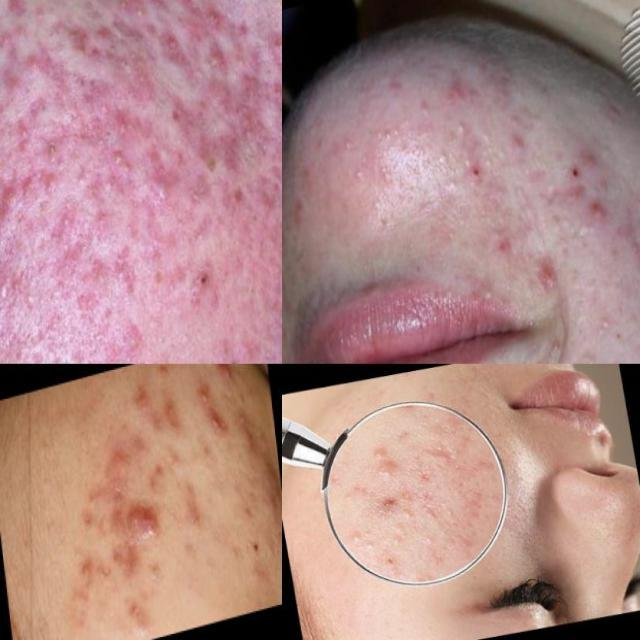Pimples: (116, 50, 257, 206), (523, 240, 575, 300), (433, 52, 478, 120), (582, 186, 624, 248), (230, 84, 265, 156), (0, 174, 28, 252), (128, 493, 164, 552), (101, 138, 140, 188), (550, 174, 595, 216), (144, 162, 177, 216), (204, 398, 230, 451), (572, 144, 604, 182), (421, 430, 453, 462), (158, 392, 184, 430), (130, 382, 156, 418), (298, 158, 322, 194), (114, 0, 149, 23), (365, 439, 392, 464), (507, 132, 530, 161), (418, 491, 439, 522), (205, 38, 222, 75), (1, 185, 24, 212), (212, 364, 236, 388), (108, 446, 128, 474), (40, 135, 60, 161), (372, 493, 397, 513)
